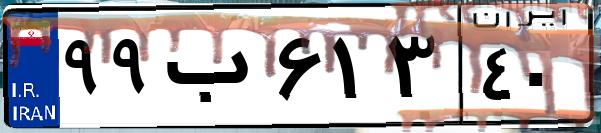0: (525, 38, 570, 115)
1: (330, 28, 385, 110)
3: (385, 28, 445, 110)
4: (475, 38, 525, 113)
6: (270, 28, 330, 110)
9: (57, 26, 110, 100), (110, 28, 158, 98)
ب: (158, 20, 270, 120)
